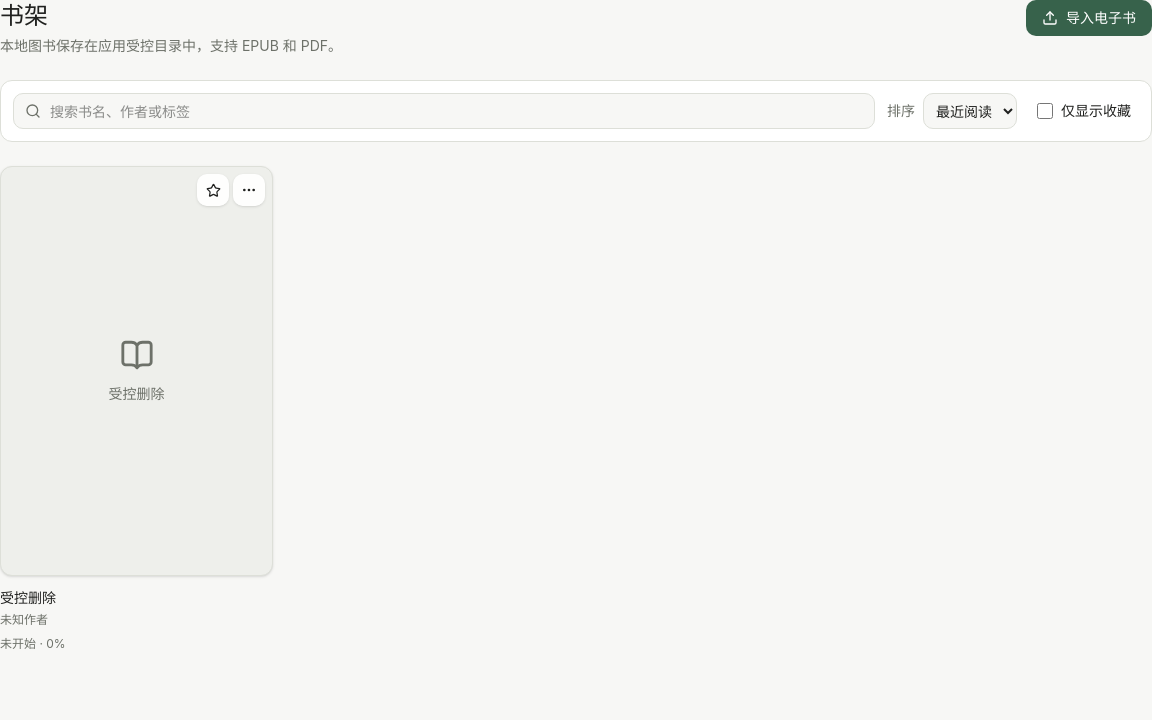
Test case: LibraryPage › edits tags and requires a second confirmation before deletion
Expected: the button with aria-label "打开《受控删除》" is shown, [0,166,273,652]
Click the button named "管理《受控删除》": click(249, 190) [233,174,265,206]
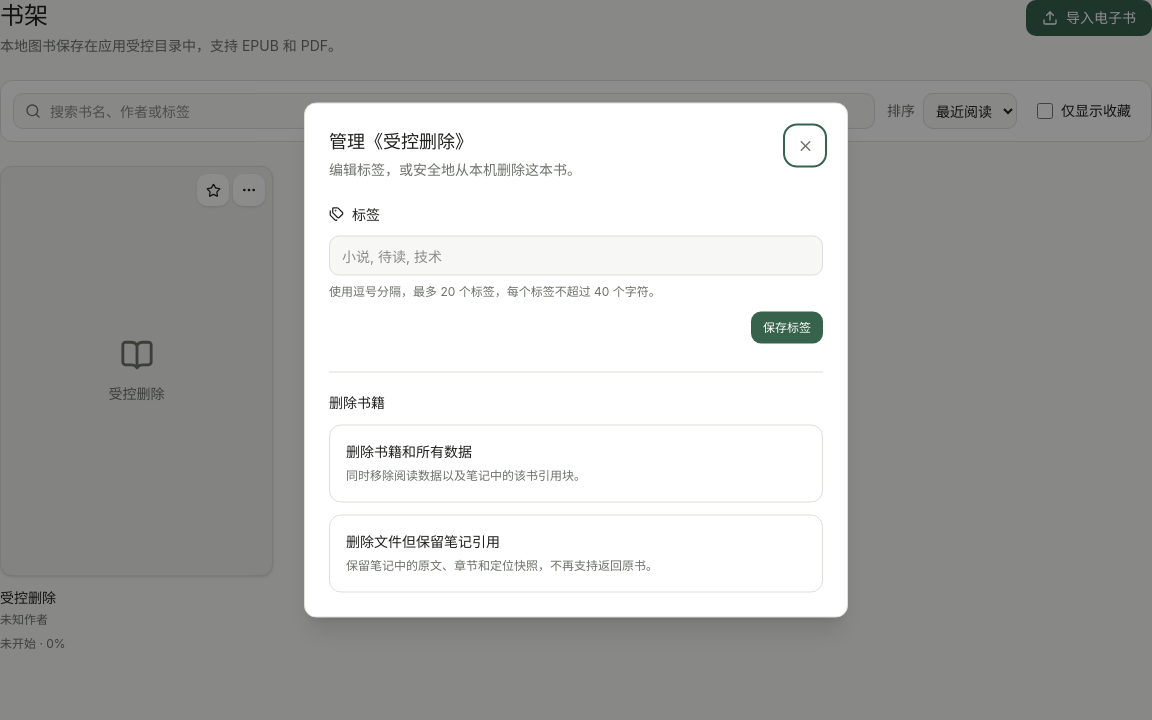
In the field labelled "标签": (576, 256) [329,236,823,276], type "技术, 待读"
Click the button "保存标签": click(787, 328) [751,312,823,344]
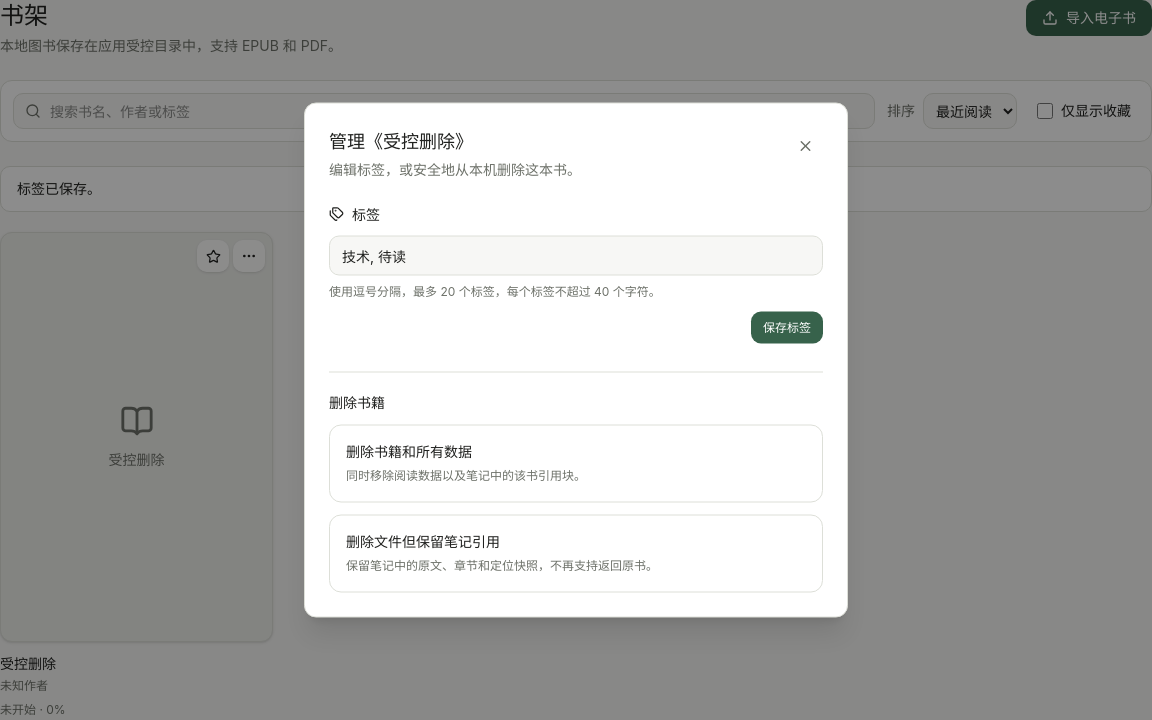
Click the button named "关闭书籍管理": click(805, 146) [787,128,823,164]
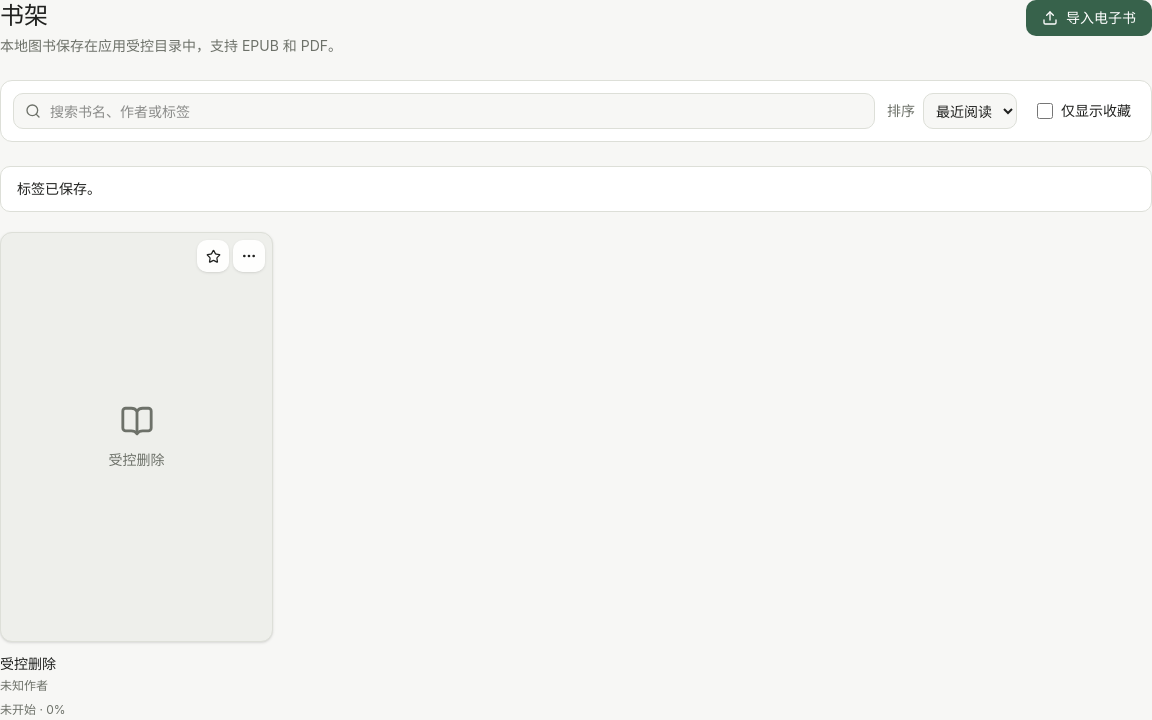
Now the message shows "标签已保存", box [17,180,101,197]
Click the button named "管理《受控删除》": click(249, 256) [233,240,265,272]
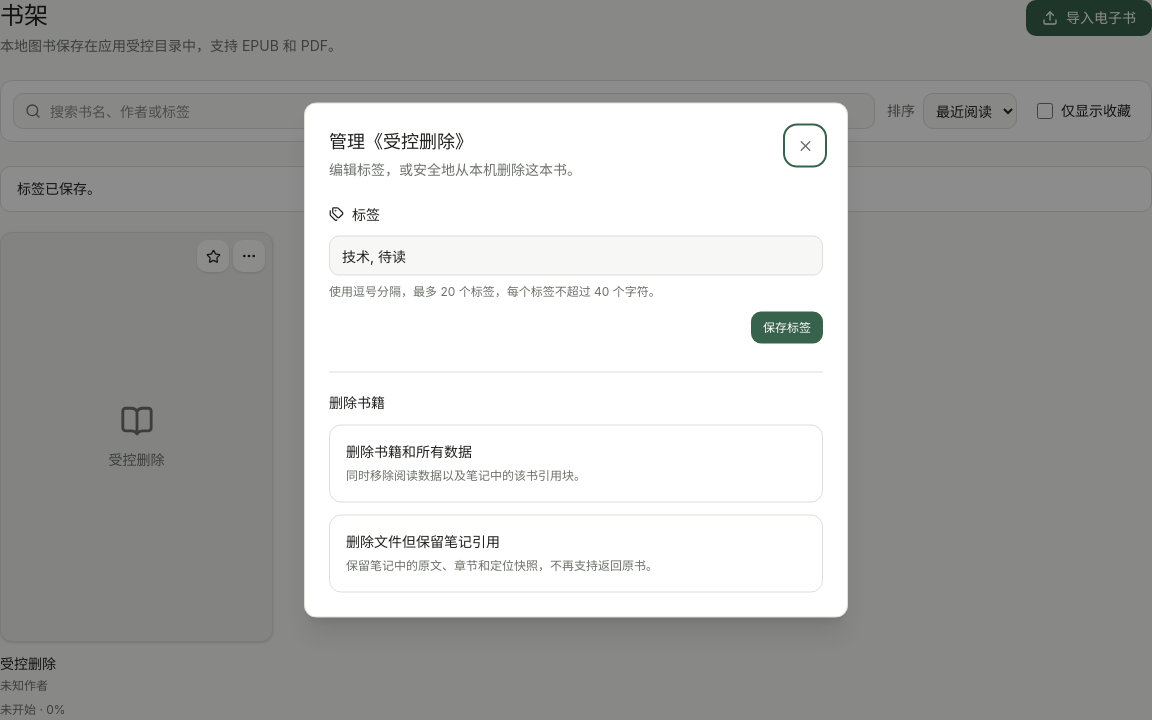
Click the button "删除文件但保留笔记引用 保留笔记中的原文、章节和定位快照，不再支持返回原书。": click(423, 541) [329,514,823,592]
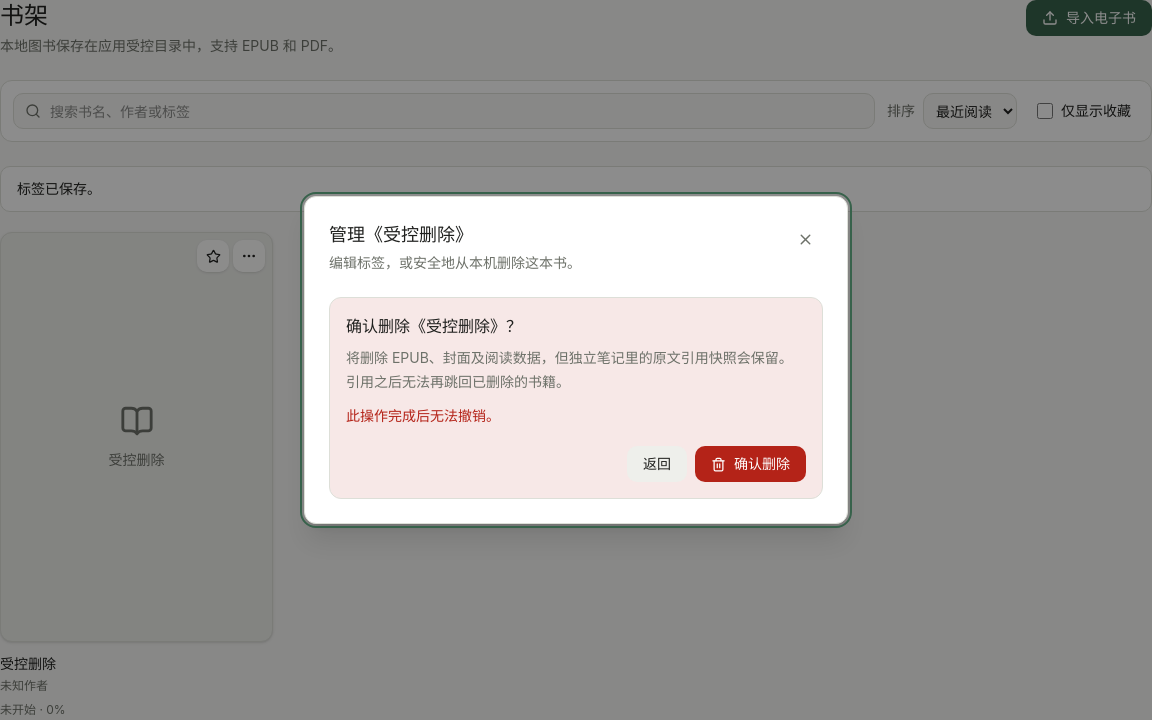
Now the heading "确认删除《受控删除》？" is shown, box [346,316,522,336]
Click the button "确认删除": click(750, 464) [695,446,806,482]
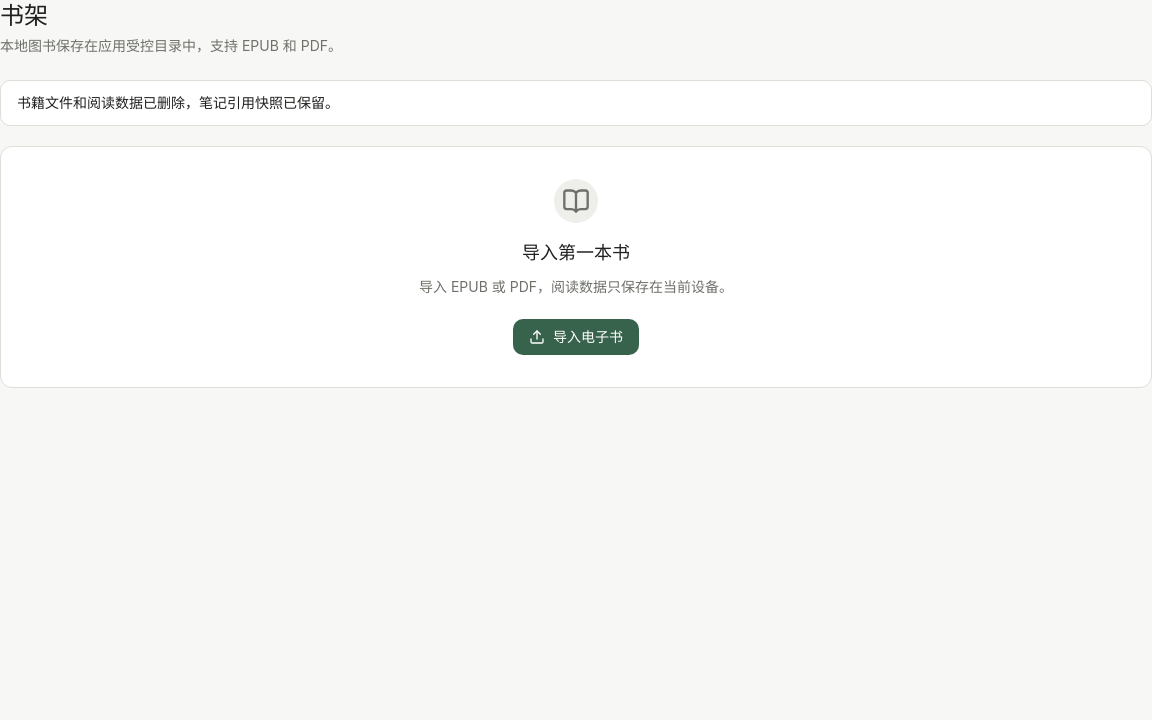
Now the message shows "笔记引用快照已保留", box [17,94,339,111]
